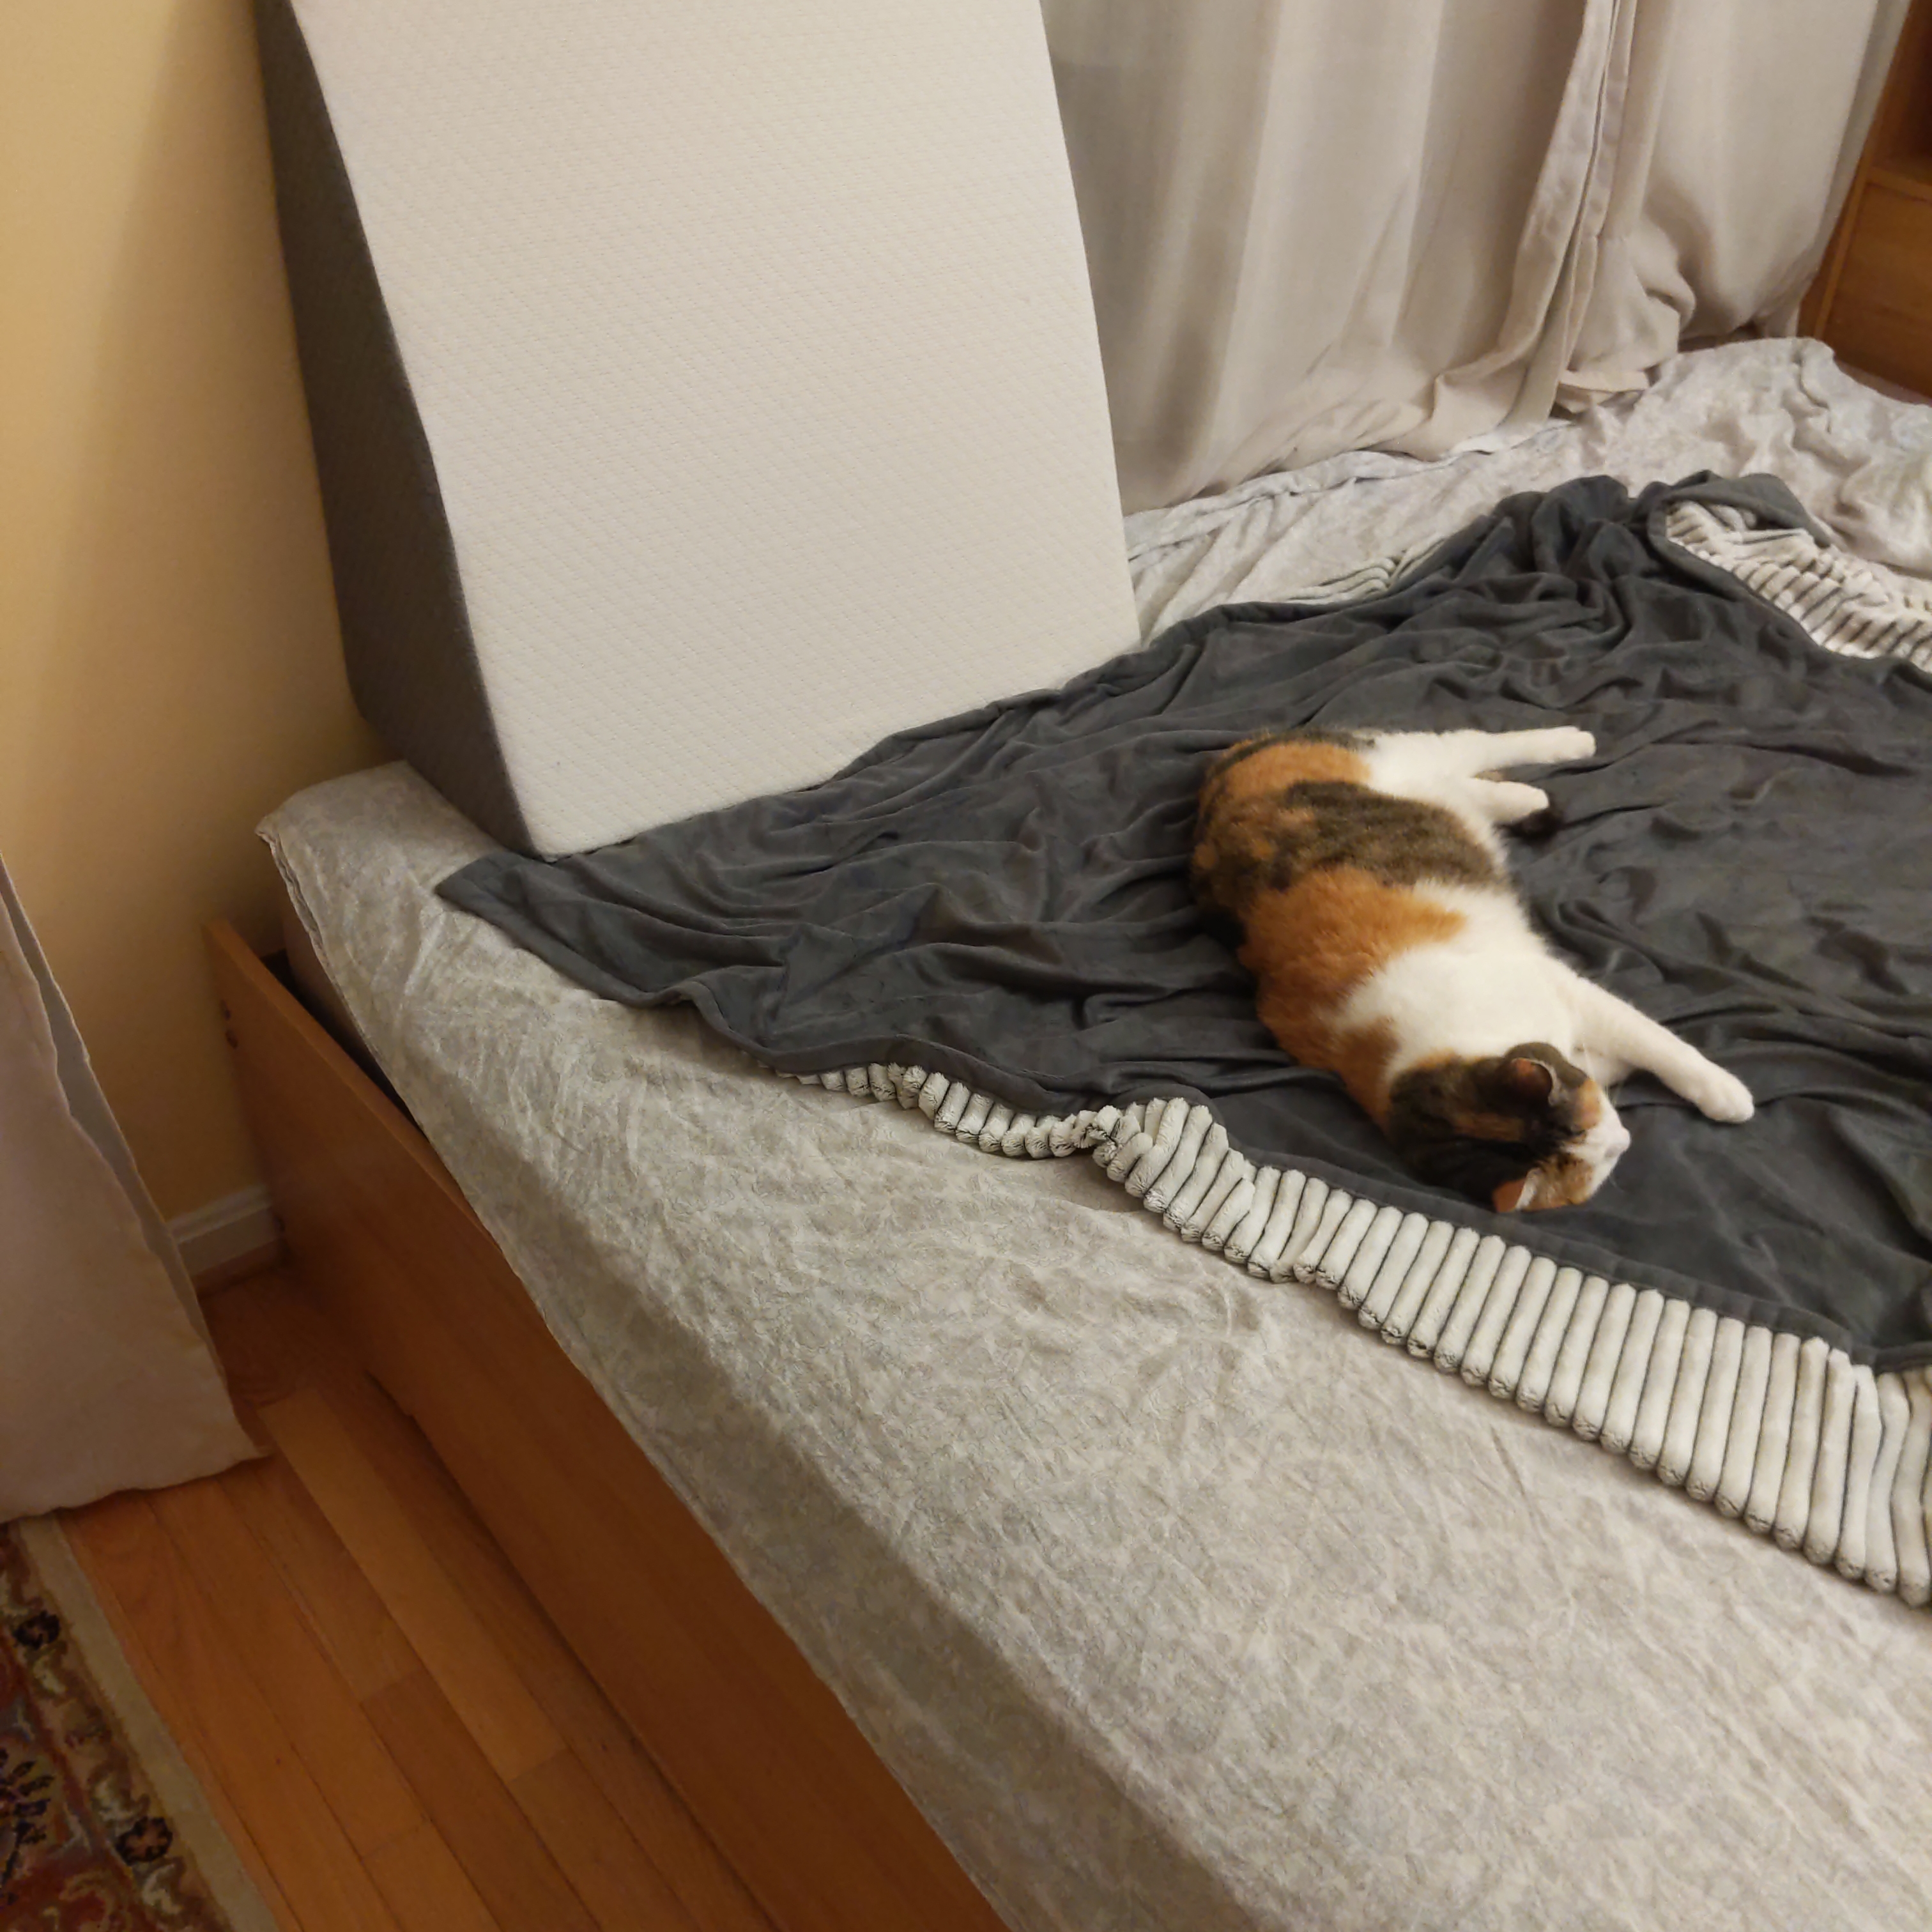Calico: (1187, 722, 1757, 1215)
